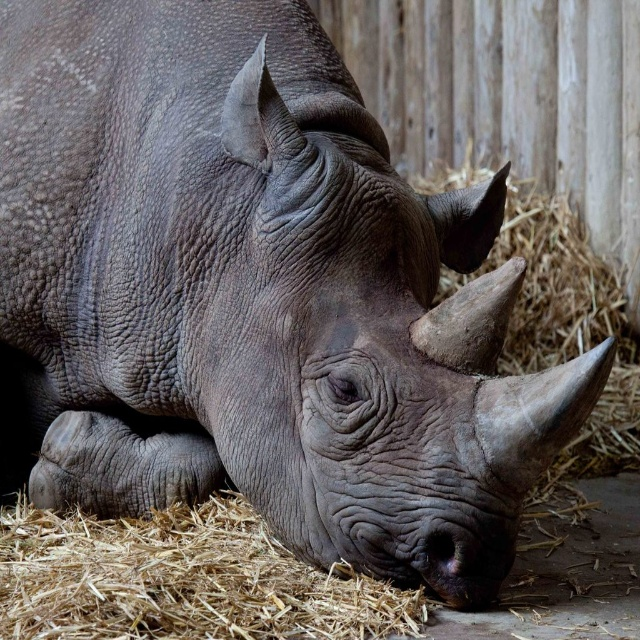Rhinoceros: (0, 0, 624, 604)
